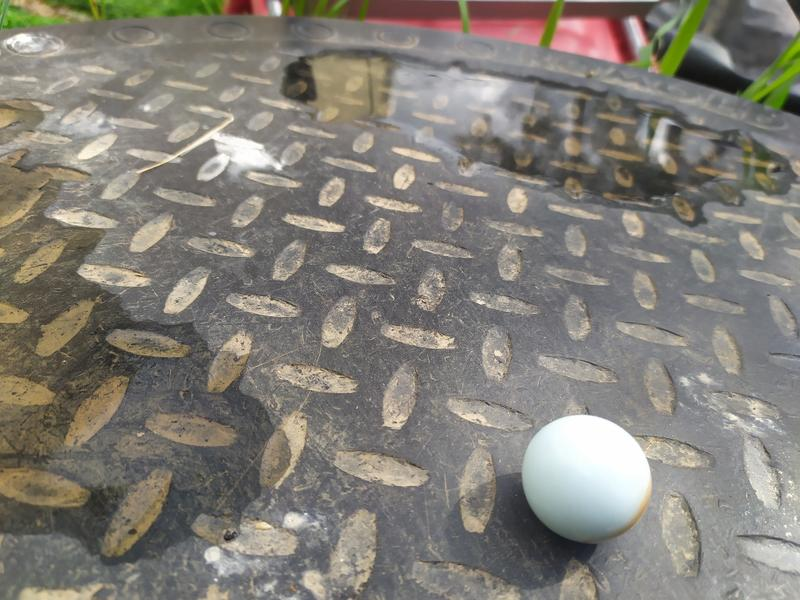Warning: (516, 411, 656, 547)
